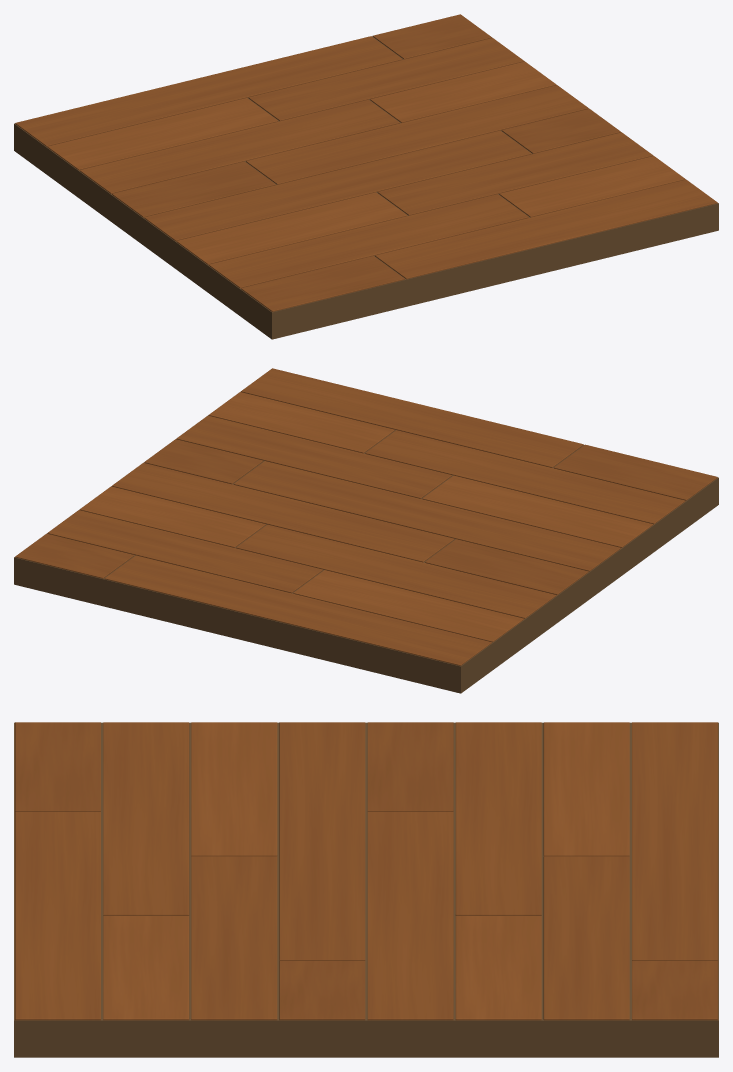
File: floor-panel.glb
3 renders of one model, top to bottom at view 1: azimuth 30°, elevation 25°; view 2: azimuth 150°, elevation 25°; view 3: azimuth 270°, elevation 25°, orthographic. The views are drawn at different scales.
Parts seen in each view (by area): view 1: Tile backing, Oak plank row 4 section 1, Oak plank row 8 section 1, Oak plank row 1 section 2, Oak plank row 5 section 2, Oak plank row 6 section 1, Oak plank row 2 section 1, Oak plank row 3 section 2, Oak plank row 7 section 2, Oak plank row 3 section 1, Oak plank row 7 section 1, Oak plank row 6 section 2 (+5 smaller); view 2: Tile backing, Oak plank row 8 section 1, Oak plank row 4 section 1, Oak plank row 1 section 2, Oak plank row 5 section 2, Oak plank row 2 section 1, Oak plank row 6 section 1, Oak plank row 3 section 2, Oak plank row 7 section 2, Oak plank row 3 section 1, Oak plank row 7 section 1, Oak plank row 6 section 2 (+5 smaller); view 3: Tile backing, Oak plank row 4 section 1, Oak plank row 8 section 1, Oak plank row 5 section 2, Oak plank row 1 section 2, Oak plank row 6 section 1, Oak plank row 2 section 1, Oak plank row 3 section 2, Oak plank row 7 section 2, Oak plank row 3 section 1, Oak plank row 7 section 1, Oak plank row 2 section 2 (+5 smaller).
Part boxes in pixels (x1,y1,x2,y2): Tile backing: (14,36,718,339); Oak plank row 4 section 1: (144,130,531,241); Oak plank row 8 section 1: (15,36,402,146); Oak plank row 1 section 2: (375,179,717,279); Oak plank row 5 section 2: (246,85,588,184); Oak plank row 6 section 1: (79,99,399,193); Oak plank row 2 section 1: (208,194,528,288); Oak plank row 3 section 2: (377,132,653,215); Oak plank row 7 section 2: (248,38,524,121); Oak plank row 3 section 1: (176,192,407,264); Oak plank row 7 section 1: (47,98,278,170); Oak plank row 6 section 2: (370,61,556,122); Tile backing: (14,391,718,693); Oak plank row 8 section 1: (104,555,491,665); Oak plank row 4 section 1: (233,461,620,571); Oak plank row 1 section 2: (241,368,583,467); Oak plank row 5 section 2: (112,463,454,562); Oak plank row 2 section 1: (365,430,685,524); Oak plank row 6 section 1: (236,524,556,618); Oak plank row 3 section 2: (176,415,451,498); Oak plank row 7 section 2: (47,510,322,593); Oak plank row 3 section 1: (422,475,653,547); Oak plank row 7 section 1: (293,570,524,642); Oak plank row 6 section 2: (79,486,265,547); Tile backing: (14,722,718,1057); Oak plank row 4 section 1: (279,722,365,960); Oak plank row 8 section 1: (632,722,717,960); Oak plank row 5 section 2: (367,811,453,1020); Oak plank row 1 section 2: (15,811,100,1020); Oak plank row 6 section 1: (455,722,541,915); Oak plank row 2 section 1: (103,722,189,915); Oak plank row 3 section 2: (191,856,277,1020); Oak plank row 7 section 2: (543,856,629,1020); Oak plank row 3 section 1: (191,722,277,856); Oak plank row 7 section 1: (543,722,629,856); Oak plank row 2 section 2: (103,916,189,1020).
Bounding box in the file's own units: 1 × 0.06 × 1.
Materials: 5 (4 with a texture image).
